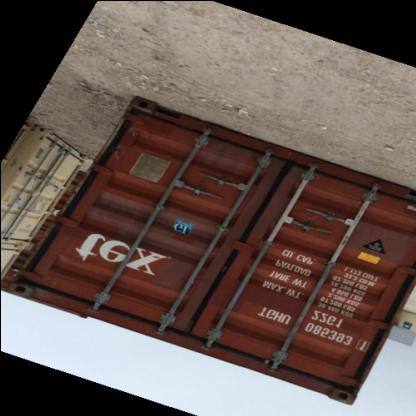Damage: (202, 136, 245, 176), (122, 116, 145, 138), (105, 142, 124, 162)
